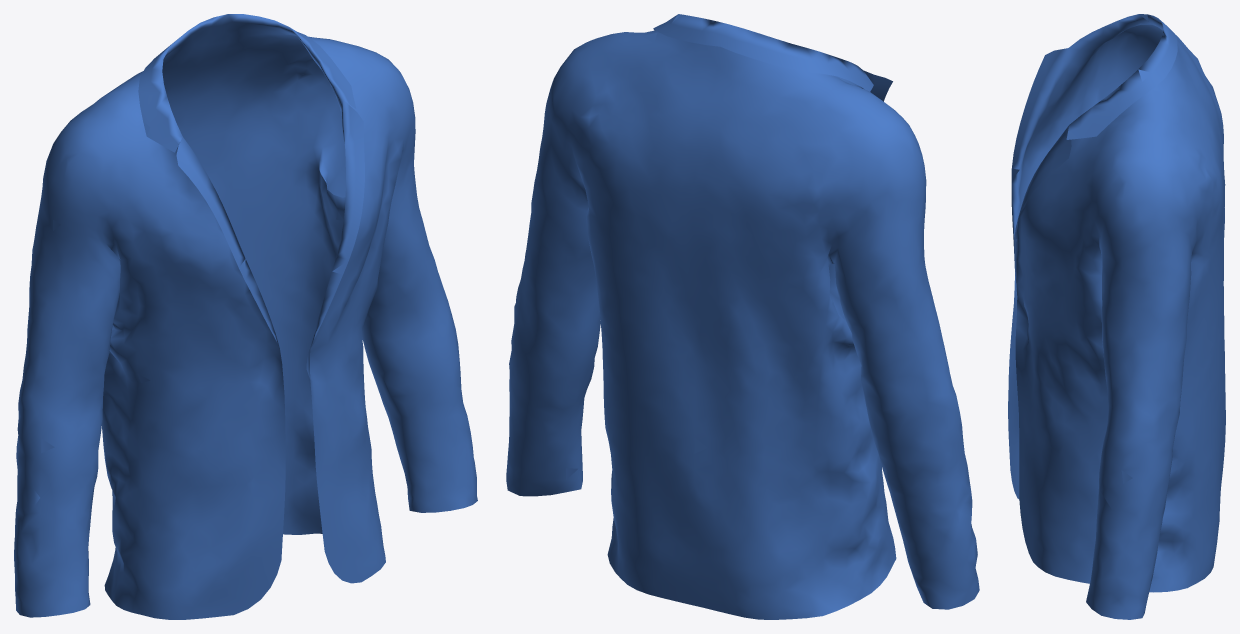
File: greatcoat.fbx
3 renders of one model, left to right at view 1: azimuth 30°, elevation 25°; view 2: azimuth 150°, elevation 25°; view 3: azimuth 270°, elevation 25°, orthographic. The views are drawn at different scales.
Visible parts, largest first — view 1: Pattern2D_560968, Pattern2D_438852, Pattern2D_560682, Pattern2D_297457, Pattern2D_296658, Pattern2D_300645, Pattern2D_305787, Pattern2D_755253, Pattern2D_301228, Pattern2D_560673, Pattern2D_755250, Pattern2D_561124 (+3 smaller); view 2: Pattern2D_755250, Pattern2D_438852, Pattern2D_300645, Pattern2D_301228, Pattern2D_755253, Pattern2D_1826431, Pattern2D_560968, Pattern2D_297457, Pattern2D_1826751, Pattern2D_305787; view 3: Pattern2D_560682, Pattern2D_301228, Pattern2D_438852, Pattern2D_560968, Pattern2D_305787, Pattern2D_297457, Pattern2D_1826751, Pattern2D_561124, Pattern2D_755250, Pattern2D_560673, Pattern2D_1826292, Pattern2D_300645 (+1 smaller).
Boxes of the visible parts, left/top/right/bottom form: Pattern2D_560968: left=64, top=96, right=285, bottom=619; Pattern2D_438852: left=184, top=30, right=352, bottom=534; Pattern2D_560682: left=306, top=44, right=411, bottom=583; Pattern2D_297457: left=362, top=80, right=472, bottom=512; Pattern2D_296658: left=40, top=164, right=120, bottom=616; Pattern2D_300645: left=14, top=121, right=69, bottom=617; Pattern2D_305787: left=293, top=170, right=345, bottom=534; Pattern2D_755253: left=102, top=293, right=134, bottom=612; Pattern2D_301228: left=308, top=67, right=477, bottom=504; Pattern2D_560673: left=310, top=100, right=364, bottom=346; Pattern2D_755250: left=68, top=35, right=207, bottom=580; Pattern2D_561124: left=176, top=137, right=279, bottom=346; Pattern2D_755250: left=692, top=51, right=878, bottom=619; Pattern2D_438852: left=580, top=30, right=721, bottom=607; Pattern2D_300645: left=819, top=132, right=979, bottom=609; Pattern2D_301228: left=506, top=49, right=595, bottom=496; Pattern2D_755253: left=812, top=262, right=886, bottom=615; Pattern2D_1826431: left=720, top=24, right=873, bottom=91; Pattern2D_560968: left=837, top=78, right=921, bottom=576; Pattern2D_297457: left=566, top=279, right=600, bottom=491; Pattern2D_1826751: left=653, top=14, right=728, bottom=46; Pattern2D_305787: left=588, top=240, right=618, bottom=571; Pattern2D_560682: left=1015, top=107, right=1159, bottom=583; Pattern2D_301228: left=1092, top=155, right=1209, bottom=619; Pattern2D_438852: left=1129, top=53, right=1225, bottom=587; Pattern2D_560968: left=1008, top=24, right=1156, bottom=499; Pattern2D_305787: left=1149, top=262, right=1195, bottom=592; Pattern2D_297457: left=1086, top=185, right=1123, bottom=608; Pattern2D_1826751: left=1066, top=27, right=1177, bottom=139; Pattern2D_561124: left=1011, top=48, right=1068, bottom=268; Pattern2D_755250: left=1176, top=35, right=1225, bottom=206; Pattern2D_560673: left=1014, top=125, right=1071, bottom=295; Pattern2D_1826292: left=1069, top=14, right=1163, bottom=51; Pattern2D_300645: left=1125, top=27, right=1162, bottom=80.
Size of the model in its own units: 6.18 by 7.16 by 2.74.
